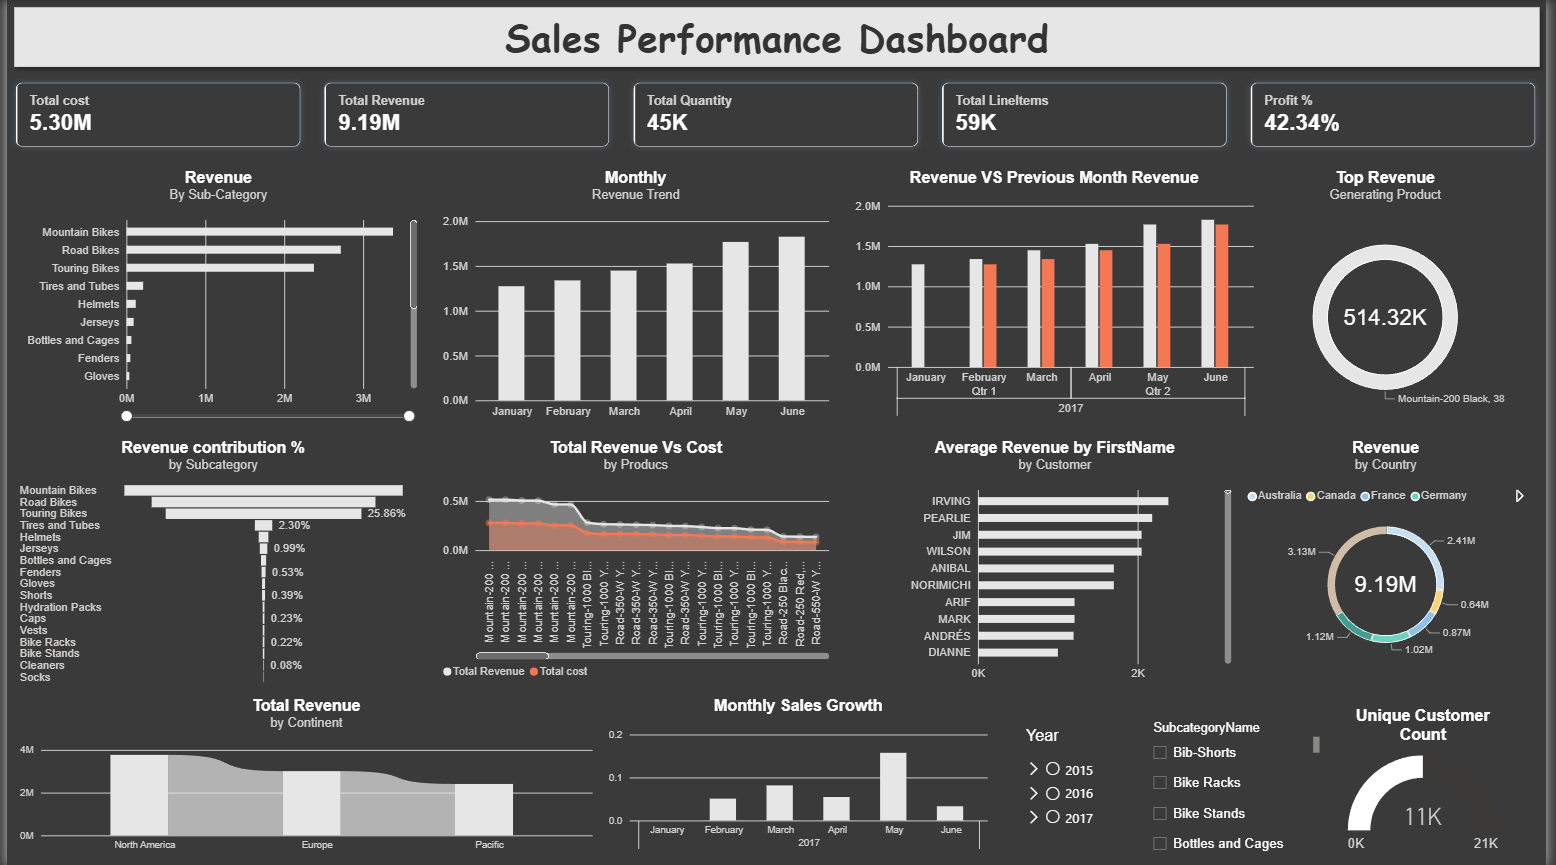

The dashboard page shown, as its layout file describes it:
{"tool":"powerbi","page":{"name":"Page 1","canvas":[1920,1080],"ordinal":0},"visuals":[{"type":"ribbonChart","fields":{"Category":["AdventureWorks_Territories.Continent"],"Y":["AdventureWorks_Sales_2017.Total Revenue"]},"box":[0,854.3,746.6,226.6],"z":0},{"type":"shape","box":[0,0,1920.4,92.4],"z":1000},{"type":"cardVisual","fields":{"Data":["AdventureWorks_Sales_2017.Total cost","AdventureWorks_Sales_2017.Total Revenue","AdventureWorks_Sales_2017.Total Quantity","AdventureWorks_Sales_2017.Total LineItems","AdventureWorks_Sales_2017.Profit %"]},"box":[0,92.4,1920.4,102.9],"z":2000},{"type":"barChart","title":"Revenue","fields":{"Category":["AdventureWorks_Product_Subcateg.SubcategoryName","AdventureWorks_Products.ProductName"],"Y":["AdventureWorks_Sales_2017.Total Revenue"]},"box":[0,195,527.5,345.4],"z":3000},{"type":"clusteredColumnChart","title":"Monthly","fields":{"Category":["AdventureWorks_Calendar.Date.Variation.Date Hierarchy.Month"],"Y":["AdventureWorks_Sales_2017.Total Revenue"]},"box":[527.5,195,514.5,345.4],"z":4000},{"type":"clusteredColumnChart","title":"Revenue VS Previous Month Revenue","fields":{"Category":["AdventureWorks_Calendar.Date.Variation.Date Hierarchy.Year","AdventureWorks_Calendar.Date.Variation.Date Hierarchy.Quarter","AdventureWorks_Calendar.Date.Variation.Date Hierarchy.Month","AdventureWorks_Calendar.Date.Variation.Date Hierarchy.Day"],"Y":["AdventureWorks_Sales_2017.Total Revenue","AdventureWorks_Sales_2017.Previous month Revenue"]},"box":[1041.9,195,529.3,345.4],"z":5000},{"type":"donutChart","title":"Top Revenue","fields":{"Category":["AdventureWorks_Products.ProductName"],"Y":["AdventureWorks_Sales_2017.Total Revenue"]},"box":[1543.4,195,351,345.4],"z":6000},{"type":"funnel","title":"Revenue contribution %","fields":{"Category":["AdventureWorks_Product_Subcateg.SubcategoryName","AdventureWorks_Products.ProductName"],"Y":["AdventureWorks_Sales_2017.Product contribution %"]},"box":[0,531.2,514.5,336.6],"z":7000},{"type":"areaChart","title":"Total Revenue Vs Cost","fields":{"Category":["AdventureWorks_Products.ProductName"],"Y":["AdventureWorks_Sales_2017.Total Revenue","AdventureWorks_Sales_2017.Total cost"]},"box":[527.5,531.2,514.5,336.6],"z":8000},{"type":"gauge","fields":{"Y":["AdventureWorks_Products.Unique Customers"]},"box":[1637.8,866.9,254.7,212.8],"z":9000},{"type":"barChart","fields":{"Category":["AdventureWorks_Customers.FirstName","AdventureWorks_Customers.CustomerKey"],"Y":["AdventureWorks_Sales_2017.Average Revenue"]},"box":[1071.6,531.2,471.7,336.2],"z":10000},{"type":"donutChart","title":"Revenue","fields":{"Series":["AdventureWorks_Territories.Country"],"Y":["AdventureWorks_Sales_2017.Total Revenue"]},"box":[1530.4,531.2,377,308.3],"z":11000},{"type":"listSlicer","fields":{"Values":["AdventureWorks_Calendar.Date.Variation.Date Hierarchy.Year","AdventureWorks_Calendar.Date.Variation.Date Hierarchy.Month","AdventureWorks_Calendar.Date.Variation.Date Hierarchy.Day"]},"box":[1255.5,891.5,239.6,176.4],"z":12000},{"type":"lineStackedColumnComboChart","title":"Monthly Sales Growth ","fields":{"Category":["AdventureWorks_Calendar.Date.Variation.Date Hierarchy.Year","AdventureWorks_Calendar.Date.Variation.Date Hierarchy.Month"],"Y":["AdventureWorks_Sales_2017.Sales Growth MoM"]},"box":[733.6,854.3,505.2,226.6],"z":13000},{"type":"slicer","fields":{"Values":["AdventureWorks_Product_Subcateg.SubcategoryName"]},"box":[1421.5,898.3,215.4,180.2],"z":14000}]}

Visuals, with their boxes in screenshot pixels (x1, y1, x2, y2), scaled from the page's 1920x1080 canvas onto the 1556x865 screenshot:
ribbonChart - AdventureWorks_Territories.Continent x AdventureWorks_Sales_2017.Total Revenue: box=[0, 684, 605, 864]
shape: box=[0, 0, 1555, 74]
cardVisual - AdventureWorks_Sales_2017.Total cost x AdventureWorks_Sales_2017.Total Revenue: box=[0, 74, 1555, 156]
"Revenue" barChart: box=[0, 156, 427, 433]
"Monthly" clusteredColumnChart: box=[427, 156, 844, 433]
"Revenue VS Previous Month Revenue" clusteredColumnChart: box=[844, 156, 1273, 433]
"Top Revenue" donutChart: box=[1251, 156, 1535, 433]
"Revenue contribution %" funnel: box=[0, 425, 417, 695]
"Total Revenue Vs Cost" areaChart: box=[427, 425, 844, 695]
gauge - AdventureWorks_Products.Unique Customers: box=[1327, 694, 1534, 864]
barChart - AdventureWorks_Customers.FirstName x AdventureWorks_Customers.CustomerKey: box=[868, 425, 1251, 695]
"Revenue" donutChart: box=[1240, 425, 1546, 672]
listSlicer - AdventureWorks_Calendar.Date.Variation.Date Hierarchy.Year x AdventureWorks_Calendar.Date.Variation.Date Hierarchy.Month: box=[1017, 714, 1212, 855]
"Monthly Sales Growth " lineStackedColumnComboChart: box=[595, 684, 1004, 864]
slicer - AdventureWorks_Product_Subcateg.SubcategoryName: box=[1152, 719, 1327, 864]
